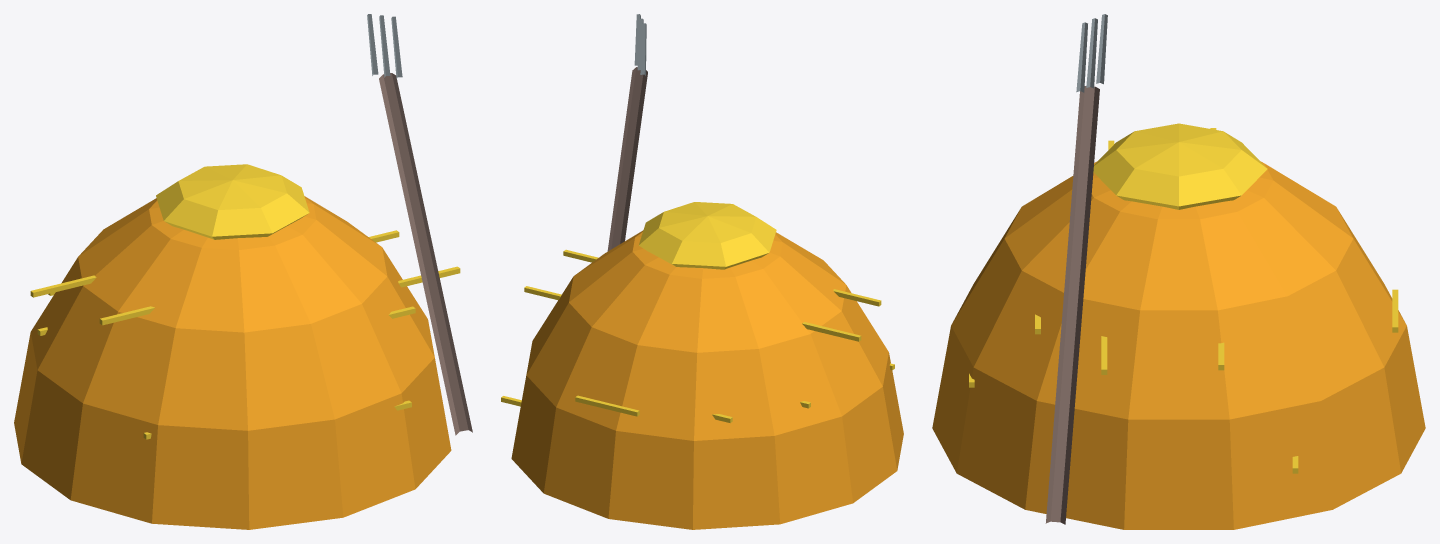
Rendered from hostack.glb.
The picture shows the model from 3 angles, left to right: view 1: azimuth 30°, elevation 25°; view 2: azimuth 150°, elevation 25°; view 3: azimuth 270°, elevation 25°; orthographic projection. The views are drawn at different scales.
Parts seen in each view (by area): view 1: hostack; view 2: hostack; view 3: hostack.
Part boxes in pixels (<box>): hostack: <box>14,14,472,529</box>; hostack: <box>501,14,903,529</box>; hostack: <box>932,14,1425,529</box>.
Size of the model in its own units: 0.9907 by 1.05 by 1.
